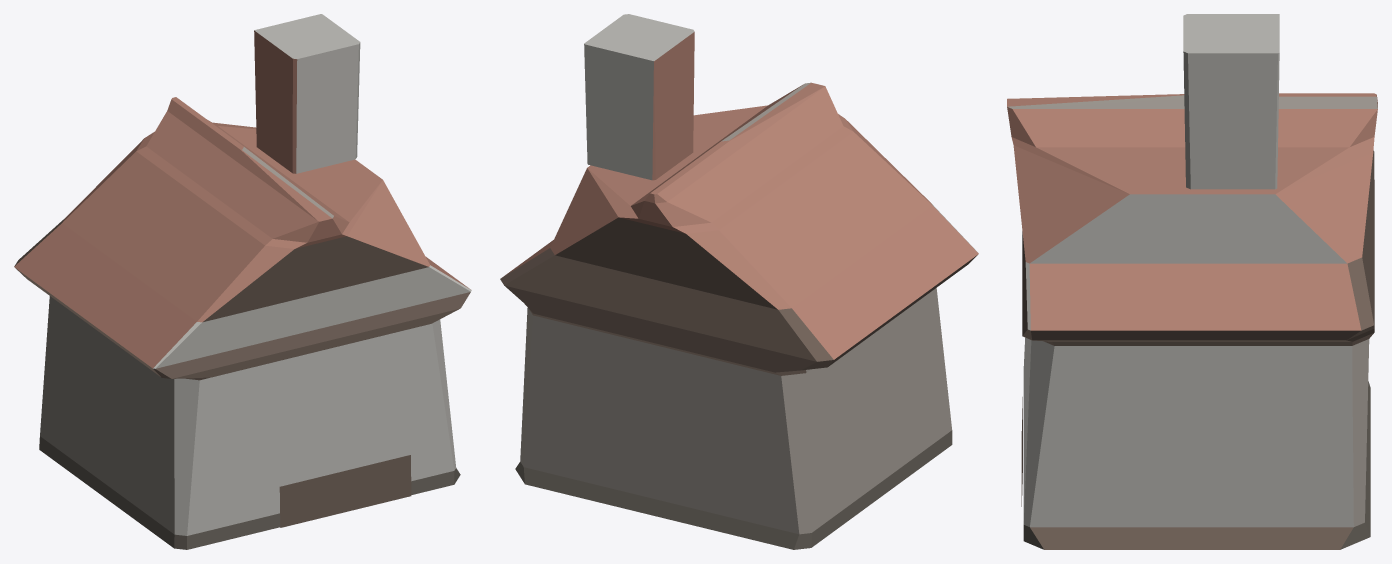
The model's file is loin.glb.
3 renders of one model, left to right at view 1: azimuth 30°, elevation 25°; view 2: azimuth 150°, elevation 25°; view 3: azimuth 270°, elevation 25°, orthographic. The views are drawn at different scales.
Parts seen in each view (by area): view 1: loin; view 2: loin; view 3: loin.
Boxes of the visible parts, <box> form: loin: <box>14,14,471,549</box>; loin: <box>500,14,978,549</box>; loin: <box>1007,14,1377,549</box>.
Size of the model in its own units: 0.8022 by 0.9557 by 0.6786.
